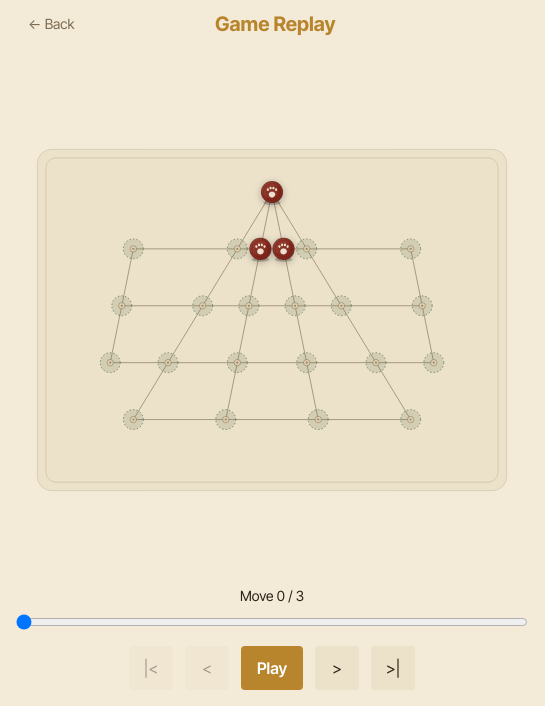
Test: ReplayScreen › scrubber sets moveIndex directly
Set the slider with test id "replay-scrubber" to "2" at (355, 622), box [16,614,528,630]
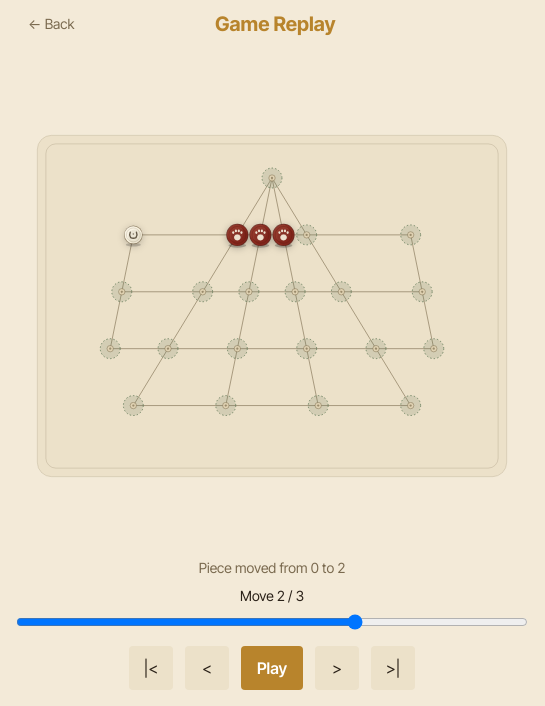
Now the text "Move 2 / 3" is shown, box [240,586,304,606]
